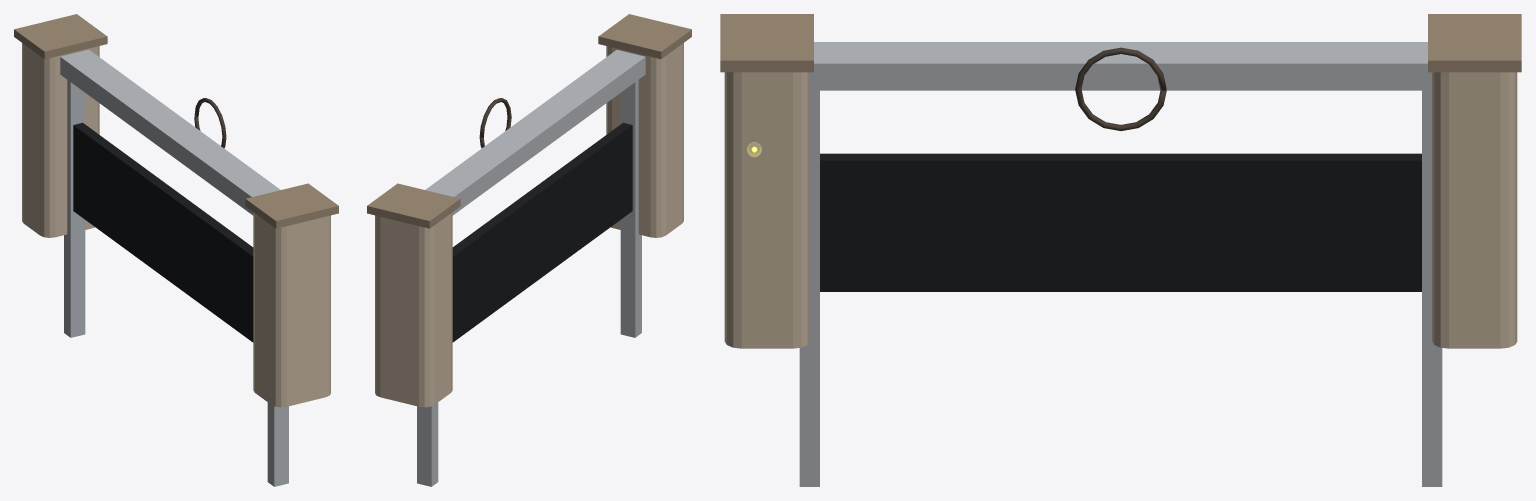
Rendered from city_water_gate.glb.
3 views of the same model, side by side, from view 1: azimuth 30°, elevation 25°; view 2: azimuth 150°, elevation 25°; view 3: azimuth 270°, elevation 25° (orthographic). The views are drawn at different scales.
Visible parts, largest first — view 1: CityWaterGate_Leaf, CityWaterGate_Pier-0.65, CityWaterGate_Lintel, CityWaterGate_Pier7.65, CityWaterGate_Guide7.65, CityWaterGate_Cap-0.65, CityWaterGate_Cap7.65, CityWaterGate_Guide0.35, CityWaterGate_Wheel; view 2: CityWaterGate_Leaf, CityWaterGate_Pier7.65, CityWaterGate_Lintel, CityWaterGate_Pier-0.65, CityWaterGate_Guide0.35, CityWaterGate_Cap7.65, CityWaterGate_Cap-0.65, CityWaterGate_Guide7.65, CityWaterGate_Wheel; view 3: CityWaterGate_Leaf, CityWaterGate_Lintel, CityWaterGate_Pier7.65, CityWaterGate_Pier-0.65, CityWaterGate_Cap7.65, CityWaterGate_Cap-0.65, CityWaterGate_Guide0.35, CityWaterGate_Guide7.65, CityWaterGate_Wheel.
Boxes of the visible parts, x1,y1,x2,y2 form: CityWaterGate_Leaf: [73, 122, 253, 342]; CityWaterGate_Pier-0.65: [253, 212, 330, 407]; CityWaterGate_Lintel: [60, 50, 280, 215]; CityWaterGate_Pier7.65: [22, 43, 99, 237]; CityWaterGate_Guide7.65: [64, 80, 85, 337]; CityWaterGate_Cap-0.65: [245, 183, 338, 228]; CityWaterGate_Cap7.65: [14, 14, 107, 59]; CityWaterGate_Guide0.35: [267, 402, 288, 486]; CityWaterGate_Wheel: [194, 98, 226, 148]; CityWaterGate_Leaf: [452, 122, 632, 342]; CityWaterGate_Pier7.65: [375, 212, 452, 407]; CityWaterGate_Lintel: [425, 50, 645, 215]; CityWaterGate_Pier-0.65: [606, 43, 683, 237]; CityWaterGate_Guide0.35: [620, 80, 641, 337]; CityWaterGate_Cap7.65: [367, 183, 460, 228]; CityWaterGate_Cap-0.65: [598, 14, 691, 59]; CityWaterGate_Guide7.65: [417, 402, 438, 486]; CityWaterGate_Wheel: [479, 98, 511, 147]; CityWaterGate_Leaf: [820, 153, 1421, 291]; CityWaterGate_Lintel: [810, 42, 1431, 90]; CityWaterGate_Pier7.65: [1432, 72, 1517, 348]; CityWaterGate_Pier-0.65: [724, 72, 809, 348]; CityWaterGate_Cap7.65: [1428, 14, 1521, 72]; CityWaterGate_Cap-0.65: [720, 14, 813, 72]; CityWaterGate_Guide0.35: [799, 90, 819, 486]; CityWaterGate_Guide7.65: [1422, 90, 1442, 486]; CityWaterGate_Wheel: [1075, 47, 1166, 130].
Bounding box in the file's own units: 1.39 × 5.94 × 9.4.
